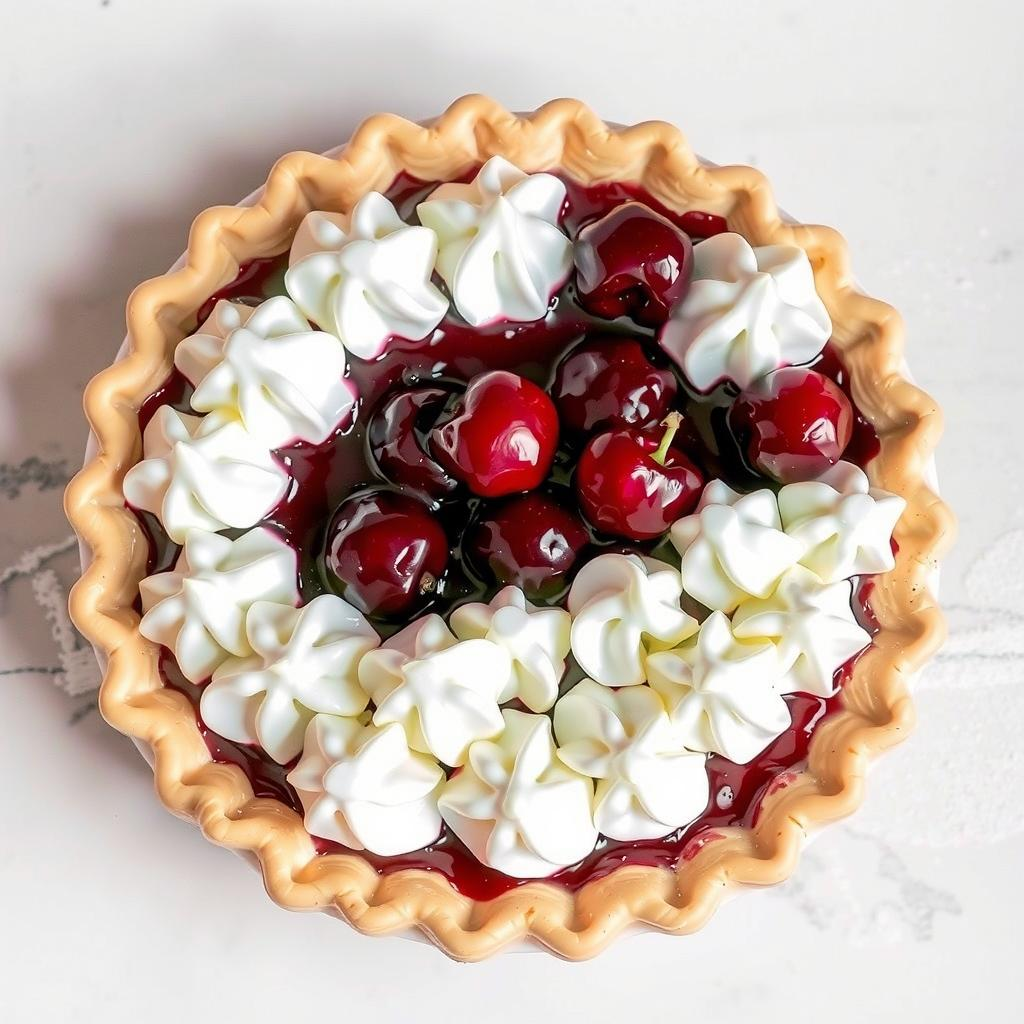pie: (60, 86, 961, 970)
